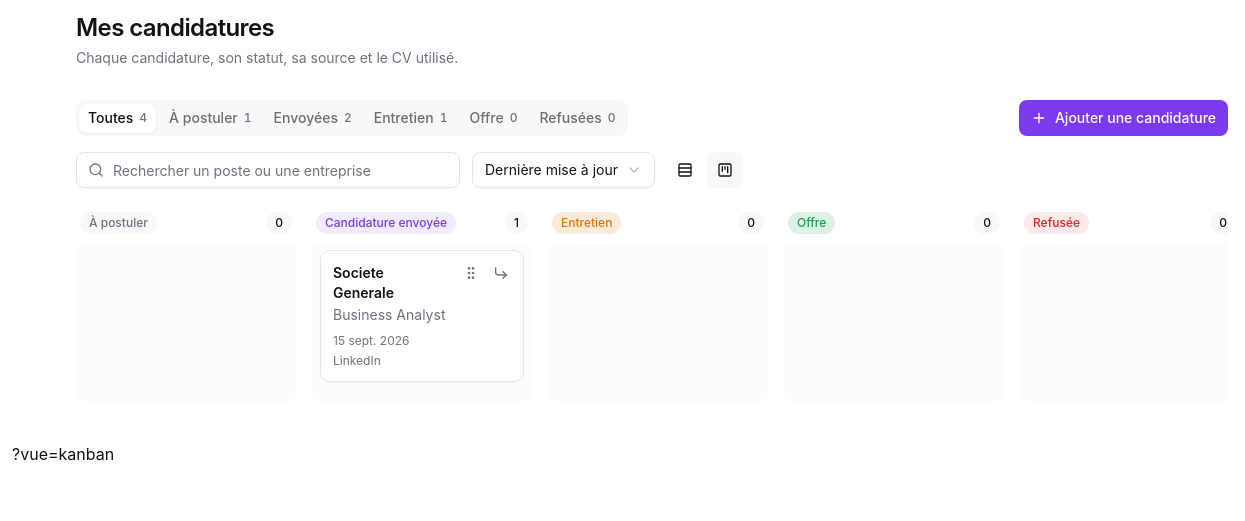
Test: ApplicationsPage › revient a la vue table, qui n_ecrit rien dans l_URL
Click the button named "Vue table". click: (685, 170)
box: [667,152,703,188]
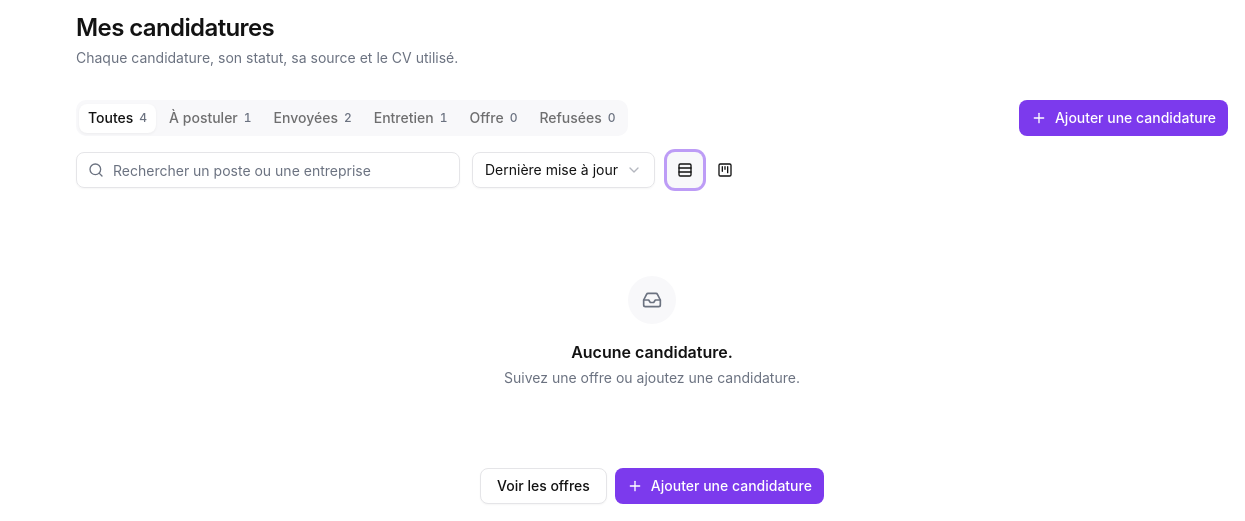
Check: the button "Societe Generale" is gone
